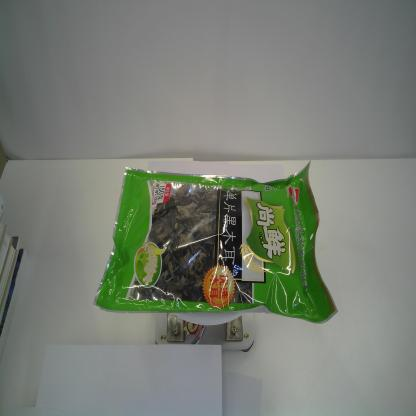Dried Food: (91, 160, 339, 323)
